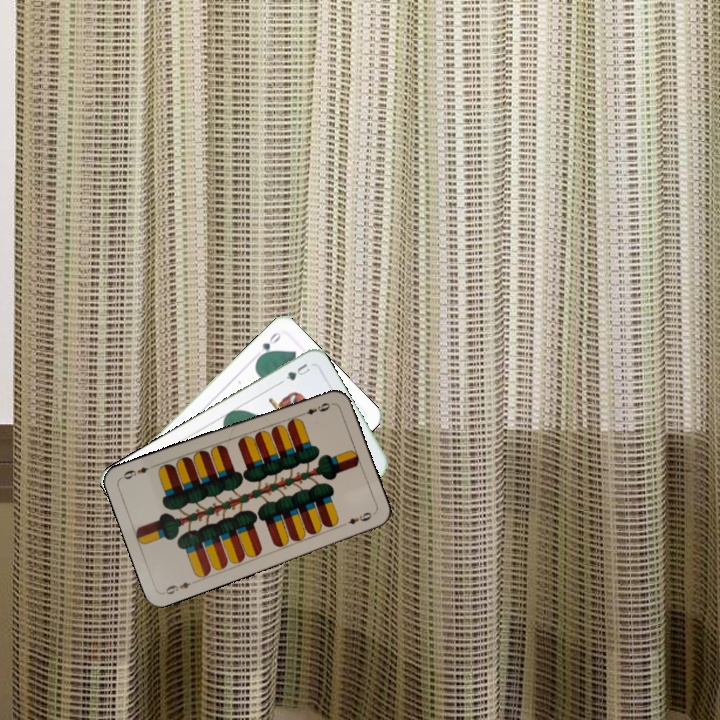E9: (296, 398, 335, 419), (161, 578, 193, 597)
GO: (253, 328, 283, 362)
GU: (282, 359, 313, 383)
